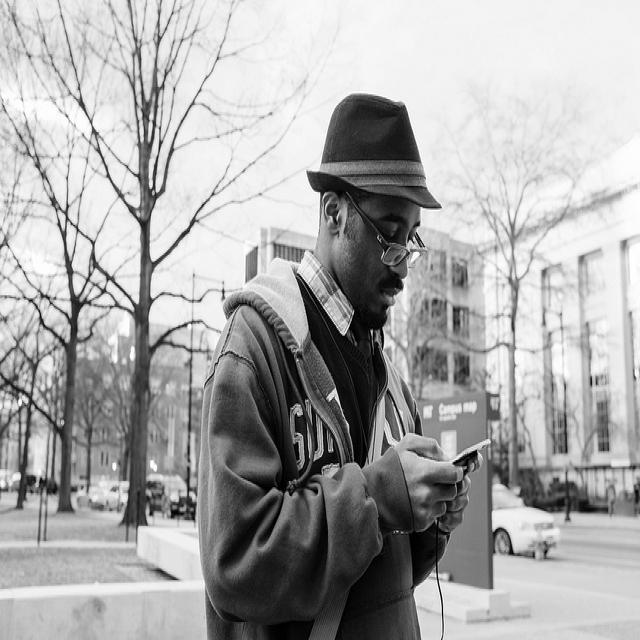Vehicle: (491, 482, 561, 560), (146, 474, 196, 519), (87, 479, 129, 512), (0, 468, 13, 492), (8, 470, 22, 491), (48, 482, 59, 495), (70, 484, 78, 492)
